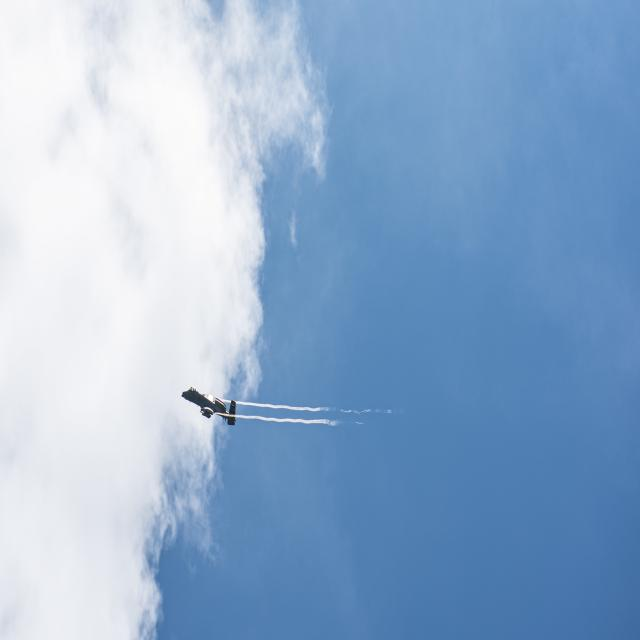MIL_Plane: (181, 386, 236, 426)
